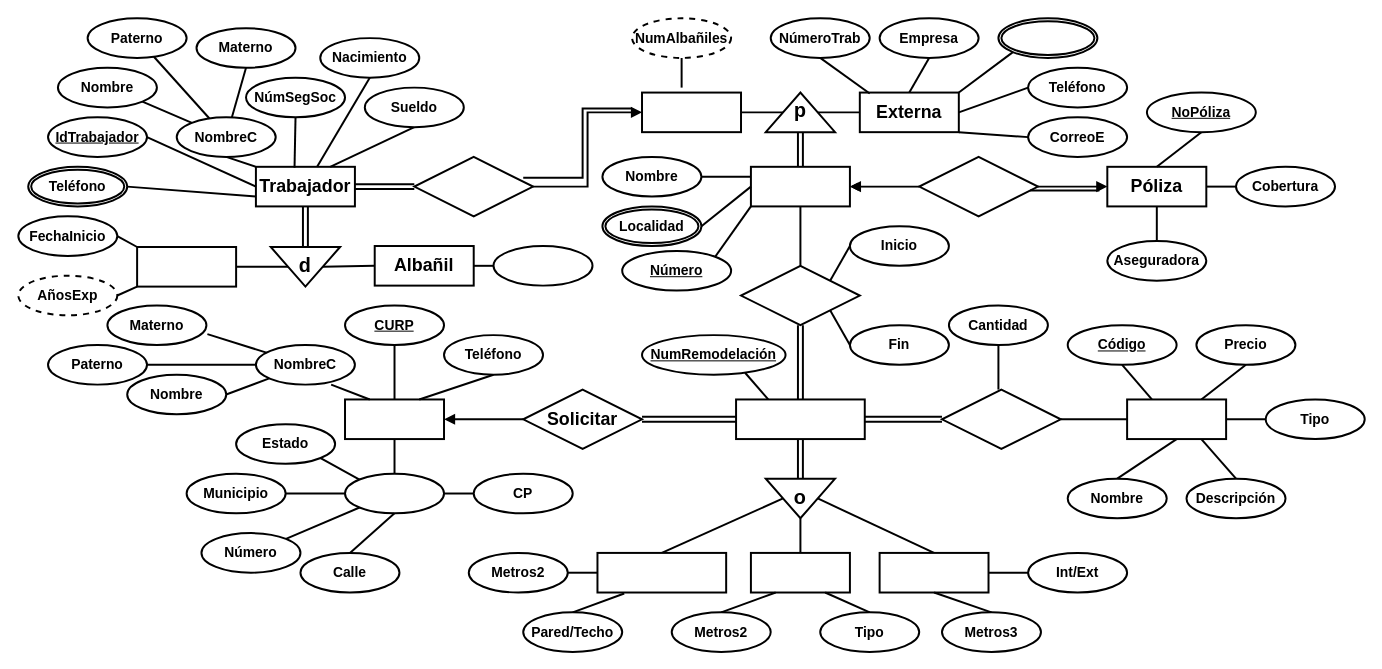
Some shapes in this 1382 by 669 pixel diagram are drawn without their labels. Each missing label, with the centre of its shape:
"Acabado" belongs at (799,572).
"Actividad" belongs at (1047,37).
"Cliente" belongs at (394,419).
"Cuadrilla" belongs at (799,186).
"Dirección" belongs at (394,493).
"Experiencia" belongs at (542,265).
"Interna" belongs at (691,112).
"Maestro" belongs at (186,266).
"Material" belongs at (1176,419).
"Participar" belongs at (800,295).
"Remodelación" belongs at (800,419).
"Revestimiento" belongs at (661,572).
"Solado" belongs at (933,572).
"Tener" belongs at (978,186).
"Trabajar" belongs at (473,186).
"Utilizar" belongs at (1000,418).
